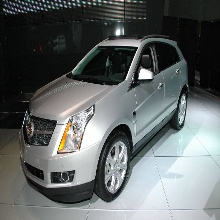no damage: (16, 33, 189, 205)
